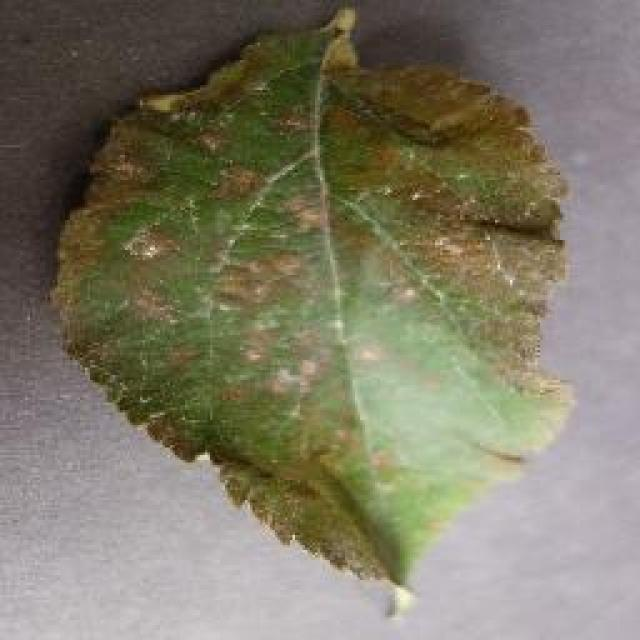apple rust disease: (48, 0, 578, 608)
